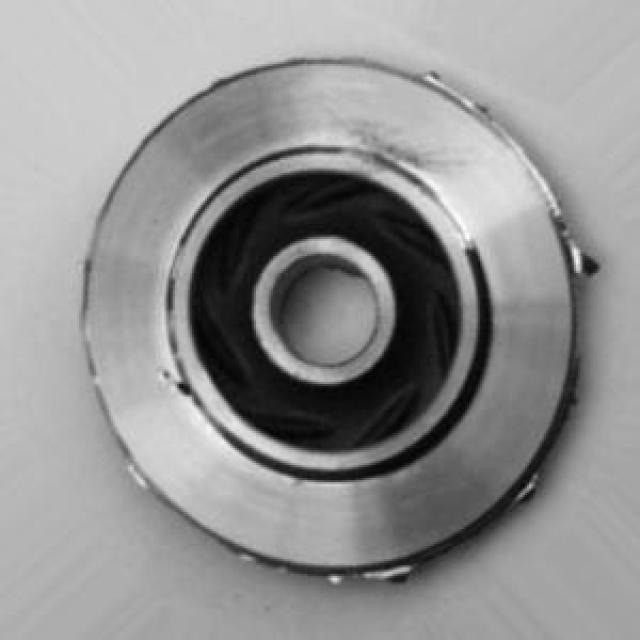Defect: (552, 203, 608, 299), (156, 357, 202, 408)
